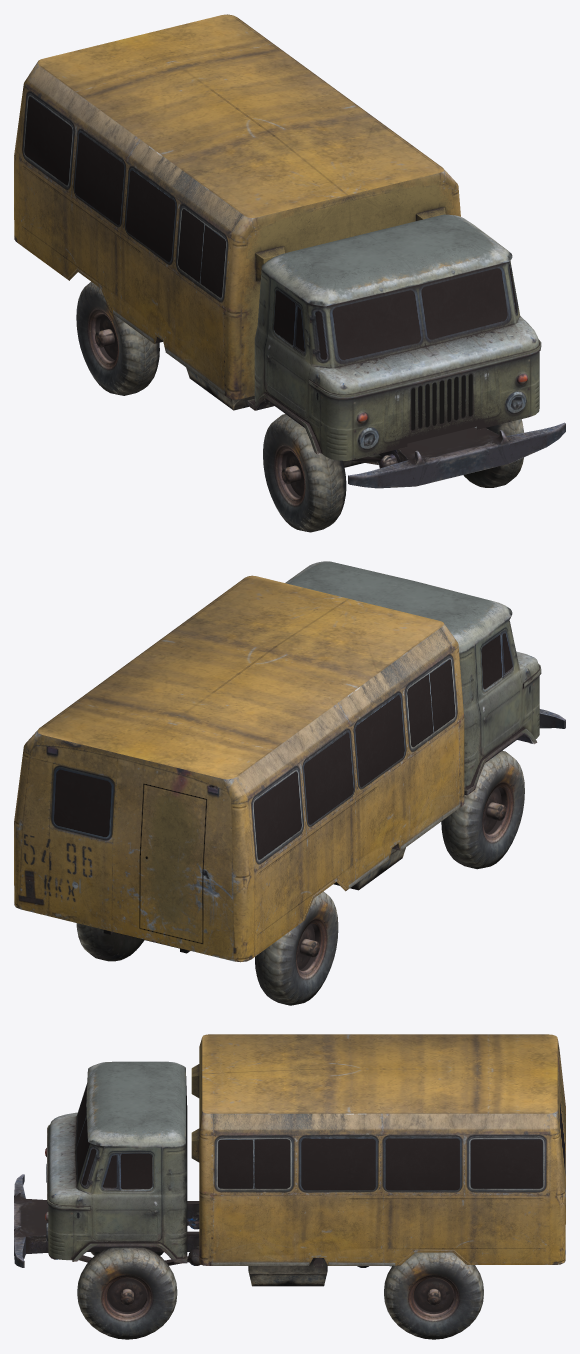
Rendered from gaz-66.glb.
3 renders of one model, top to bottom at view 1: azimuth 30°, elevation 25°; view 2: azimuth 150°, elevation 25°; view 3: azimuth 270°, elevation 25°, orthographic. The views are drawn at different scales.
Parts seen in each view (by area): view 1: Cube_Cube_1001, Cube_Cube_1001.002, Cube_Cube_1001.003, Cube_Cube_1001.001; view 2: Cube_Cube_1001, Cube_Cube_1001.002, Cube_Cube_1001.003, Cube_Cube_1001.004; view 3: Cube_Cube_1001, Cube_Cube_1001.001, Cube_Cube_1001.004.
Boxes of the visible parts, x1,y1,x2,y2 form: Cube_Cube_1001: [14, 14, 565, 488]; Cube_Cube_1001.002: [263, 414, 346, 532]; Cube_Cube_1001.003: [76, 281, 159, 395]; Cube_Cube_1001.001: [463, 419, 523, 487]; Cube_Cube_1001: [14, 561, 565, 962]; Cube_Cube_1001.002: [441, 750, 524, 869]; Cube_Cube_1001.003: [255, 891, 338, 1005]; Cube_Cube_1001.004: [76, 923, 144, 961]; Cube_Cube_1001: [14, 1034, 565, 1286]; Cube_Cube_1001.001: [77, 1247, 177, 1339]; Cube_Cube_1001.004: [384, 1252, 483, 1339].
Bounding box in the file's own units: 531 × 609 × 1312.
1 material, 1 textured.
